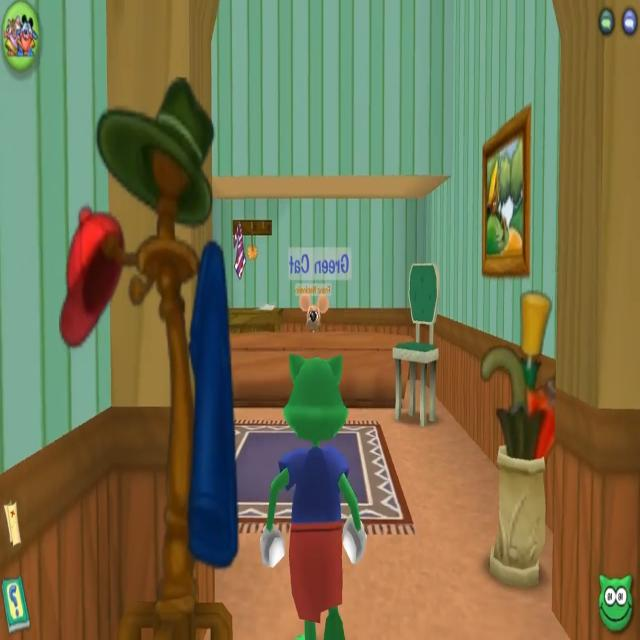npc: (298, 288, 332, 331)
